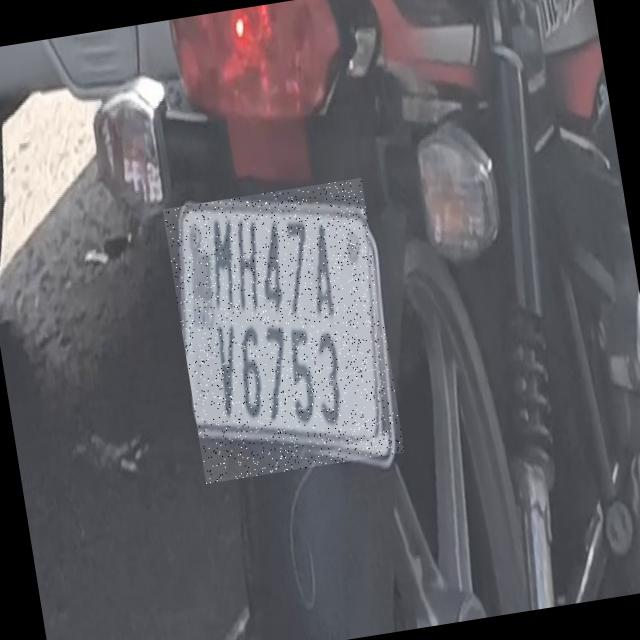Plate: (164, 179, 406, 485)
